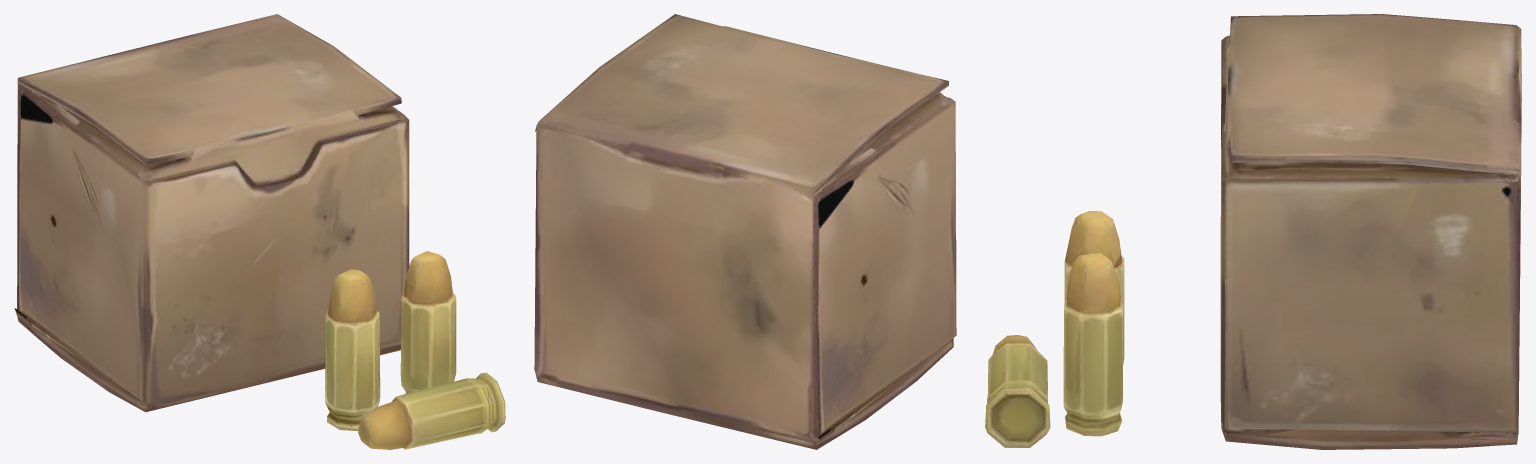
Rendered from ammo_9mm.glb.
3 renders of one model, left to right at view 1: azimuth 30°, elevation 25°; view 2: azimuth 150°, elevation 25°; view 3: azimuth 270°, elevation 25°, orthographic. The views are drawn at different scales.
Parts seen in each view (by area): view 1: Mesh1.0; view 2: Mesh1.0; view 3: Mesh1.0.
Part boxes in pixels (x1,y1,x2,y2): Mesh1.0: (14,14,505,449); Mesh1.0: (534,14,956,449); Mesh1.0: (985,14,1521,449).
Size of the model in its own units: 1.26 by 1.16 by 1.91.
Materials: 1 (1 with a texture image).
